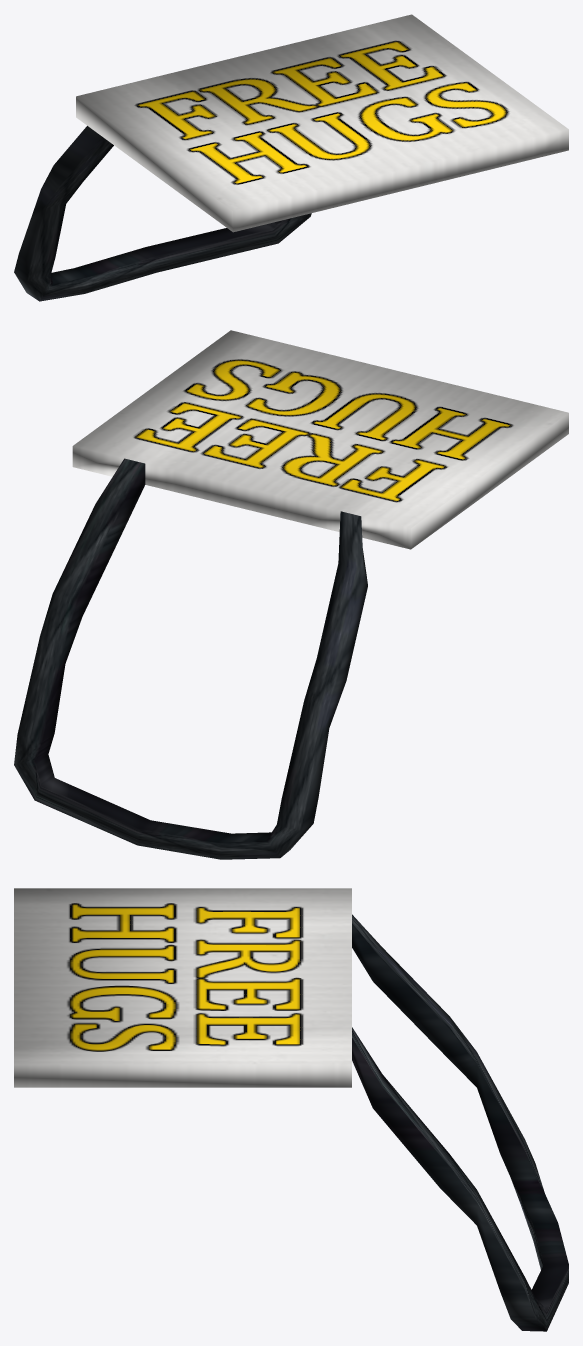
Rendered from WorldItem_FreeHugsSign.fbx.
3 views of the same model, one above another, from view 1: azimuth 30°, elevation 25°; view 2: azimuth 150°, elevation 25°; view 3: azimuth 270°, elevation 25° (orthographic). The views are drawn at different scales.
Visible parts, largest first — view 1: Cube; view 2: Cube; view 3: Cube.
Part boxes in pixels (box(x1,y1,x2,y2)): Cube: box(14, 14, 568, 301); Cube: box(14, 330, 568, 859); Cube: box(14, 888, 568, 1331).
Size of the model in its own units: 0.1804 by 0.1453 by 0.2397.
